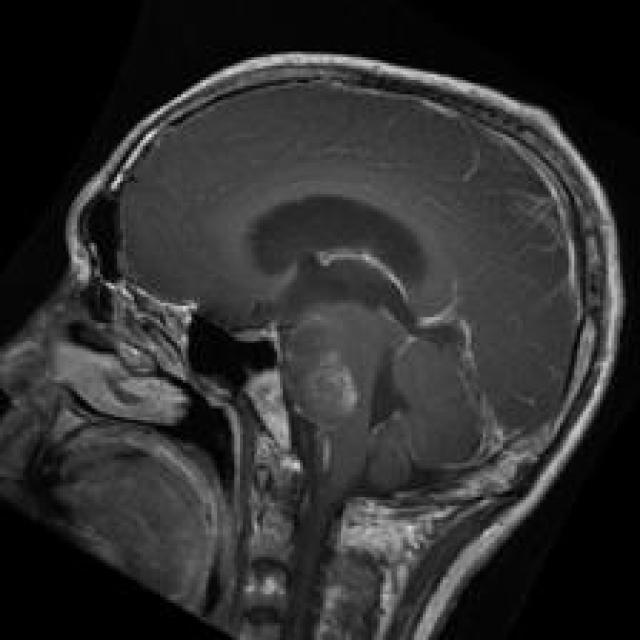glioma_tumor: (280, 336, 365, 442)
